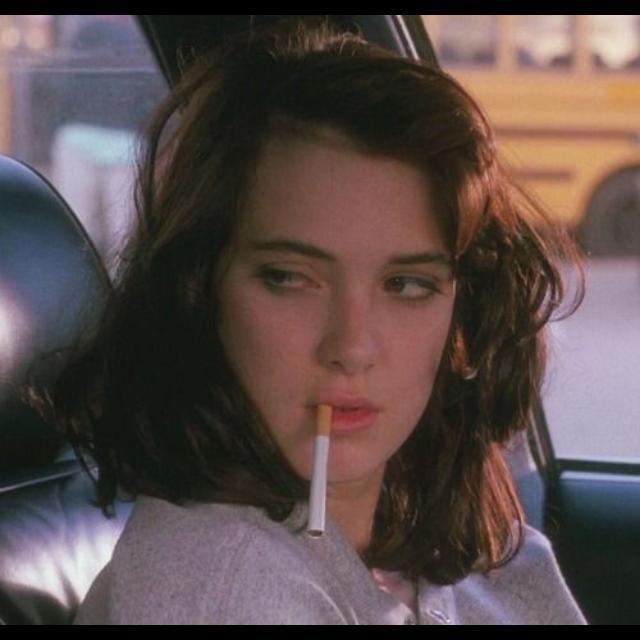rokok: (307, 400, 341, 548)
